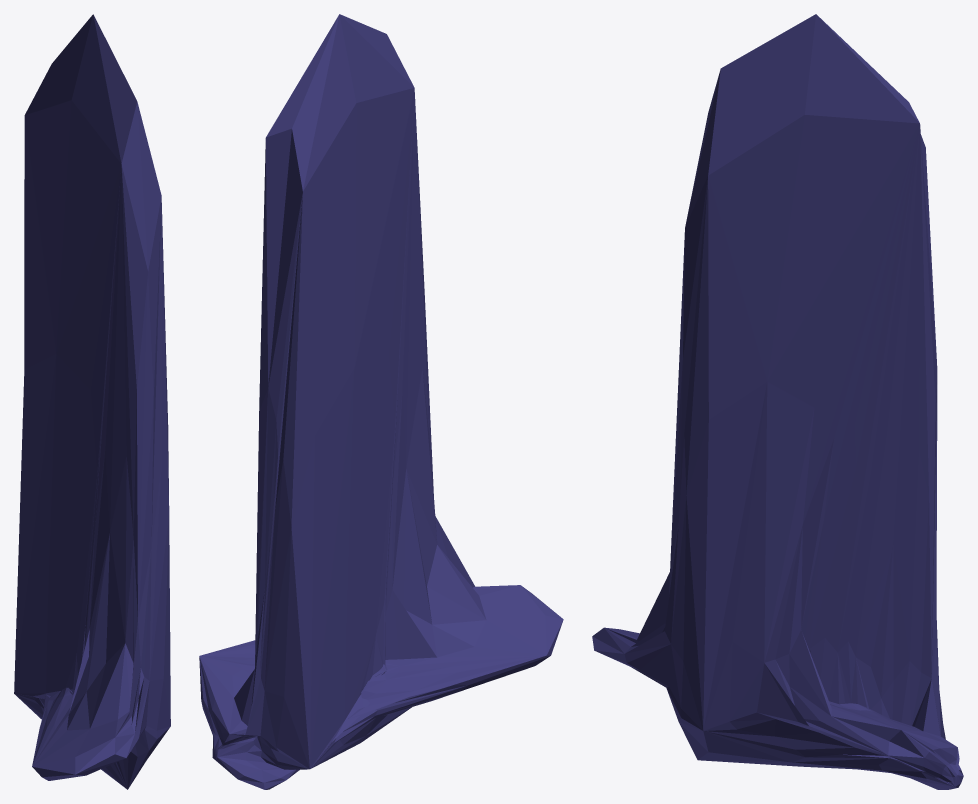
3 renders of one model, left to right at view 1: azimuth 30°, elevation 25°; view 2: azimuth 150°, elevation 25°; view 3: azimuth 270°, elevation 25°, orthographic. The views are drawn at different scales.
Parts seen in each view (by area): view 1: 311_Cube.1272; view 2: 311_Cube.1272; view 3: 311_Cube.1272.
Part boxes in pixels (<box>): 311_Cube.1272: <box>14,14,170,789</box>; 311_Cube.1272: <box>199,14,563,789</box>; 311_Cube.1272: <box>592,14,963,789</box>.
Bounding box in the file's own units: 4.21 × 12.4 × 5.43.
